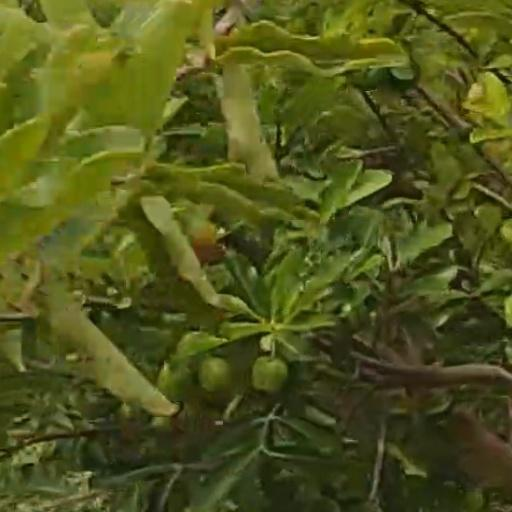acerola: (254, 359, 289, 394)
